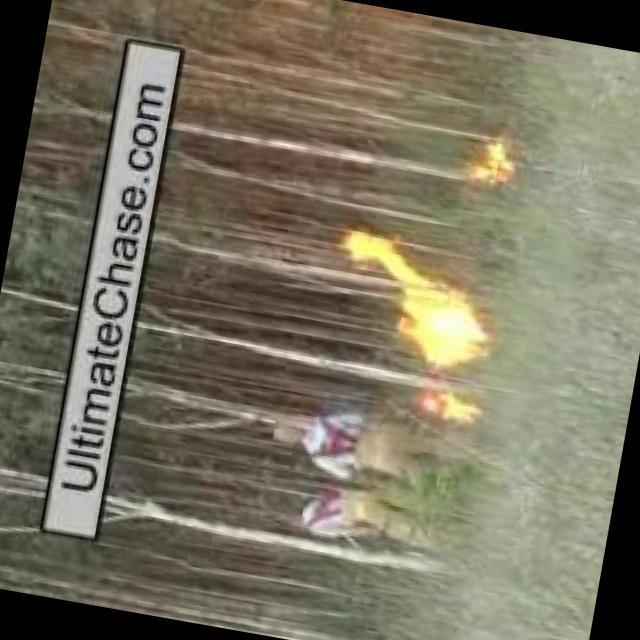Fire: (382, 271, 504, 371), (333, 228, 425, 283), (422, 385, 486, 427), (469, 138, 515, 180)
